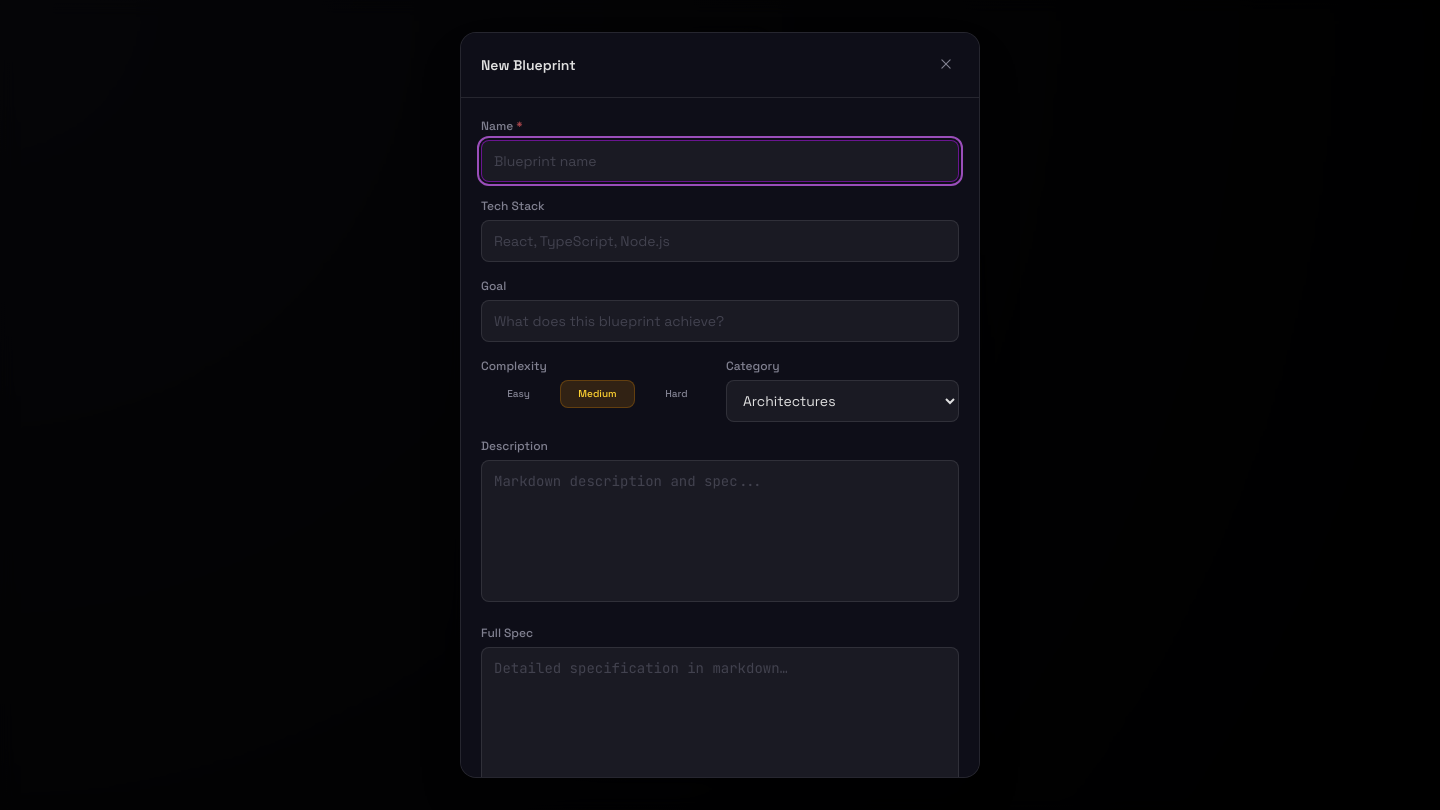
Scenario: BlueprintCreateModal › Save & Close button is enabled when name is filled
Type "My Blueprint" into the field with placeholder "Blueprint name" at (720, 161), box x1=481 y1=140 x2=959 y2=182
(page scrolled)
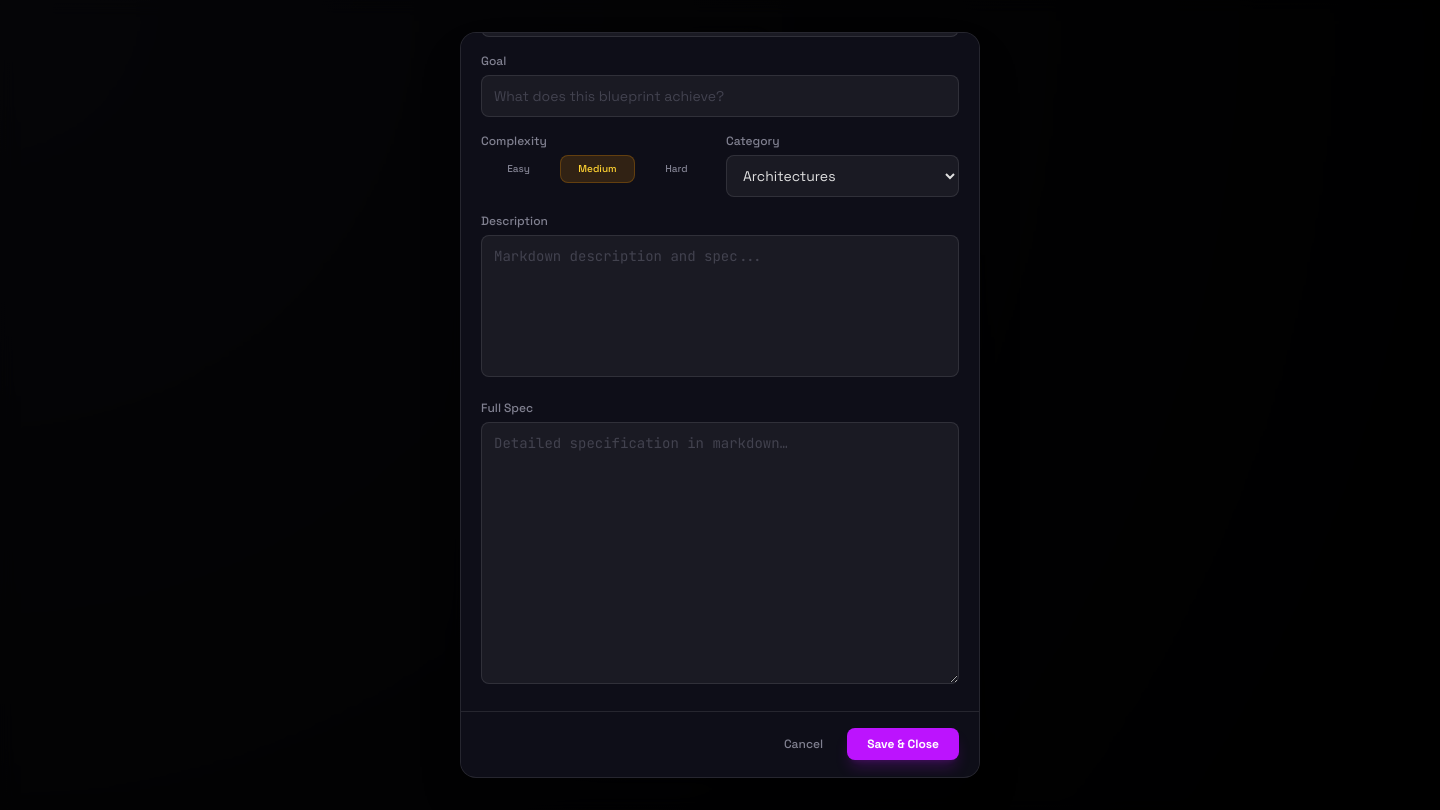
Now the button "Save & Close" is enabled, box x1=847 y1=728 x2=959 y2=760
